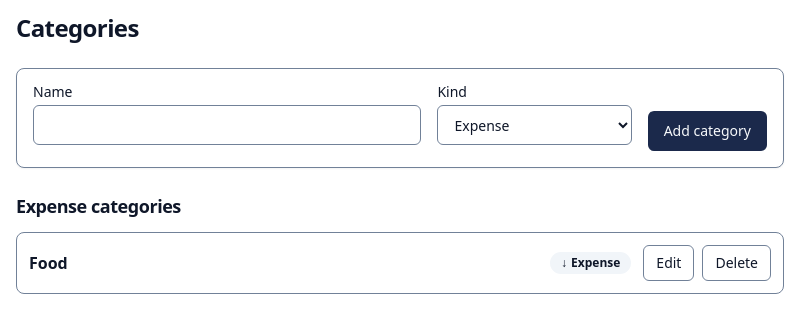
Test: inline errors (Story-003 AC-4) › T-027 a 409 duplicate shows the conflict next to the name field and the list is unchanged
Check: the text "Food" is shown, box [29,252,68,274]
Type "food" into the field labelled "Name" at (227, 125), box [33,105,421,145]
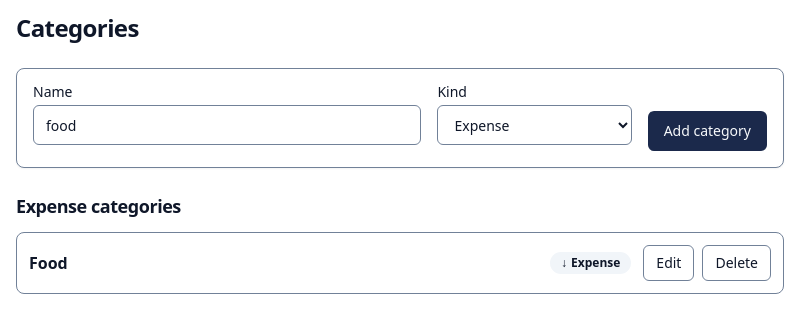
Click the button "Add category" at (707, 131), box [648,111,767,151]
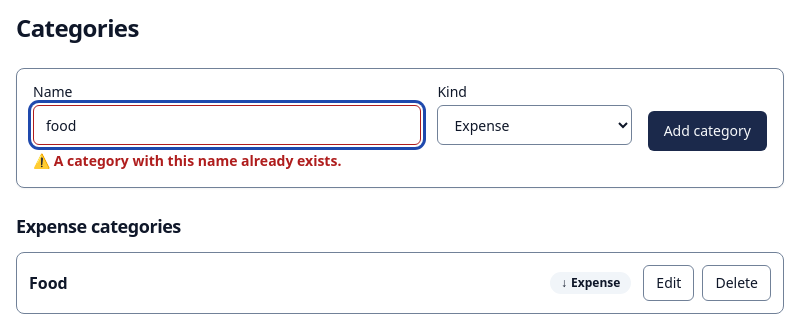
Check: the number of list items is 1, box [16,252,784,314]
Check: the message shows "A category with this name already exists.", box [54,151,341,170]
